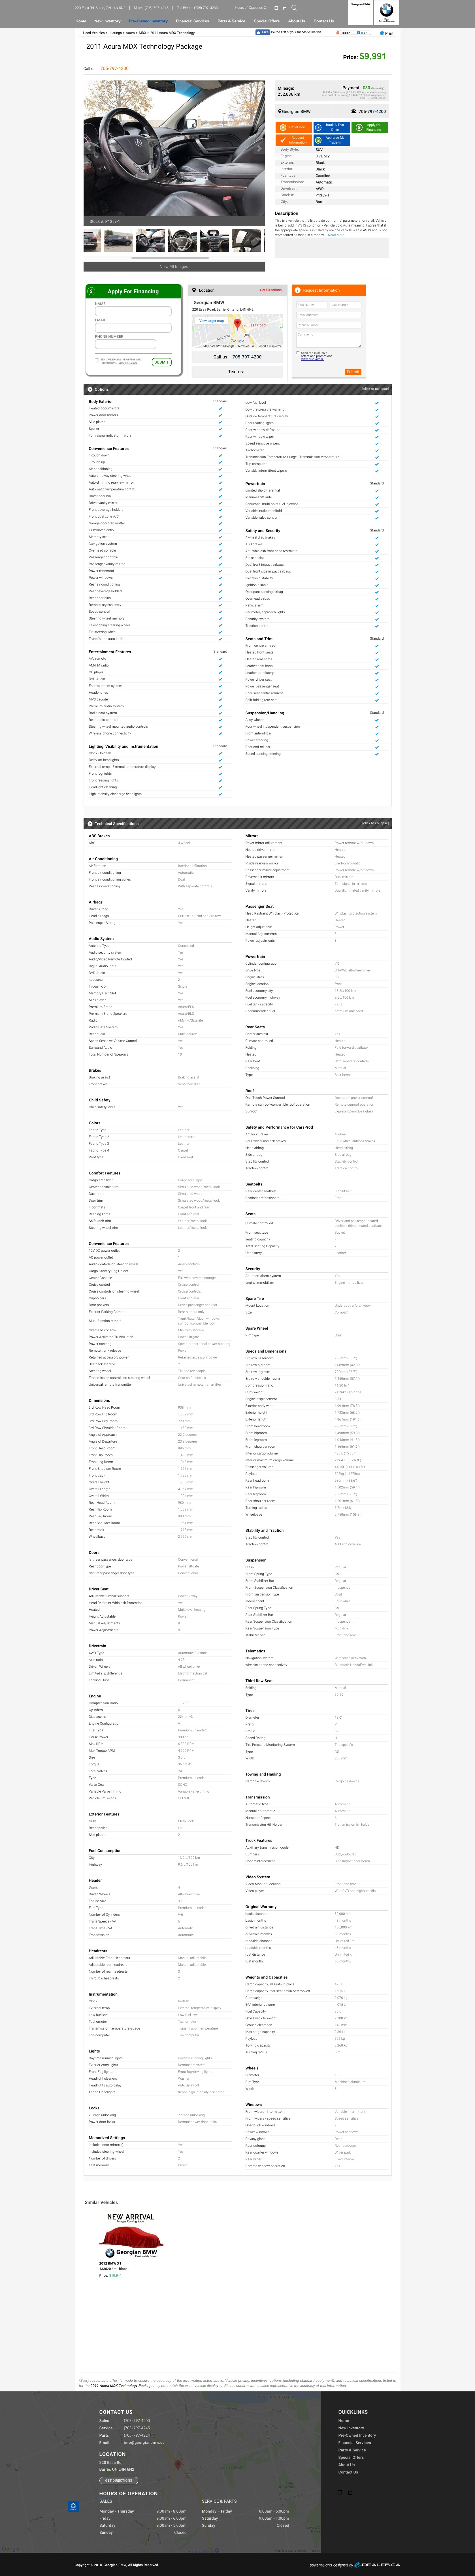car: (256, 145, 261, 153)
